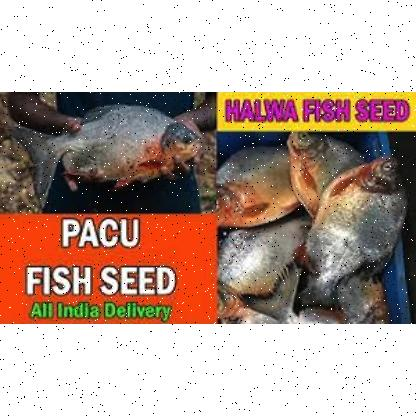ikan-pacu: (20, 100, 200, 188), (304, 155, 410, 302), (286, 128, 358, 206)
